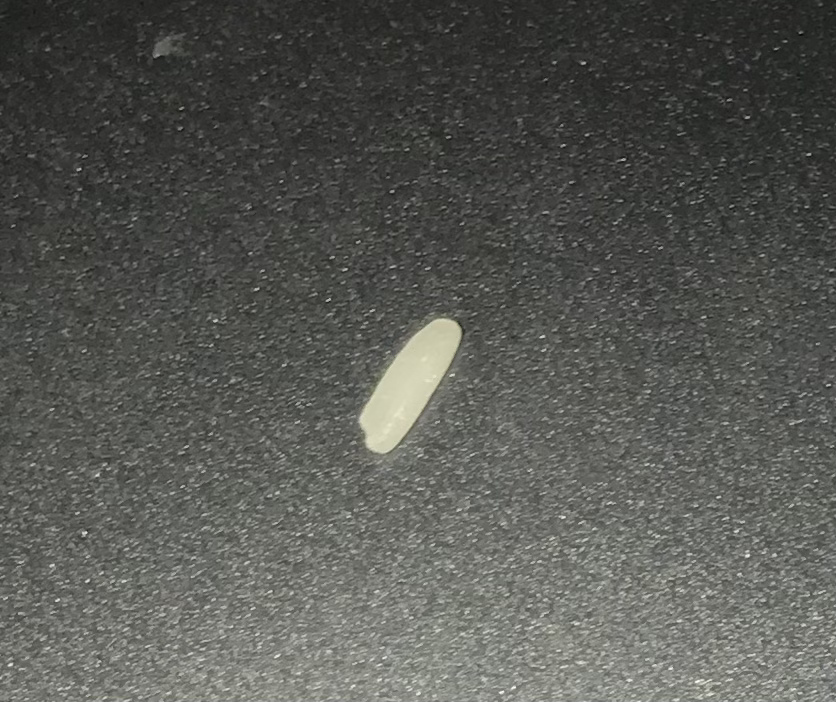Gao Tam Thom: (352, 304, 468, 454)
